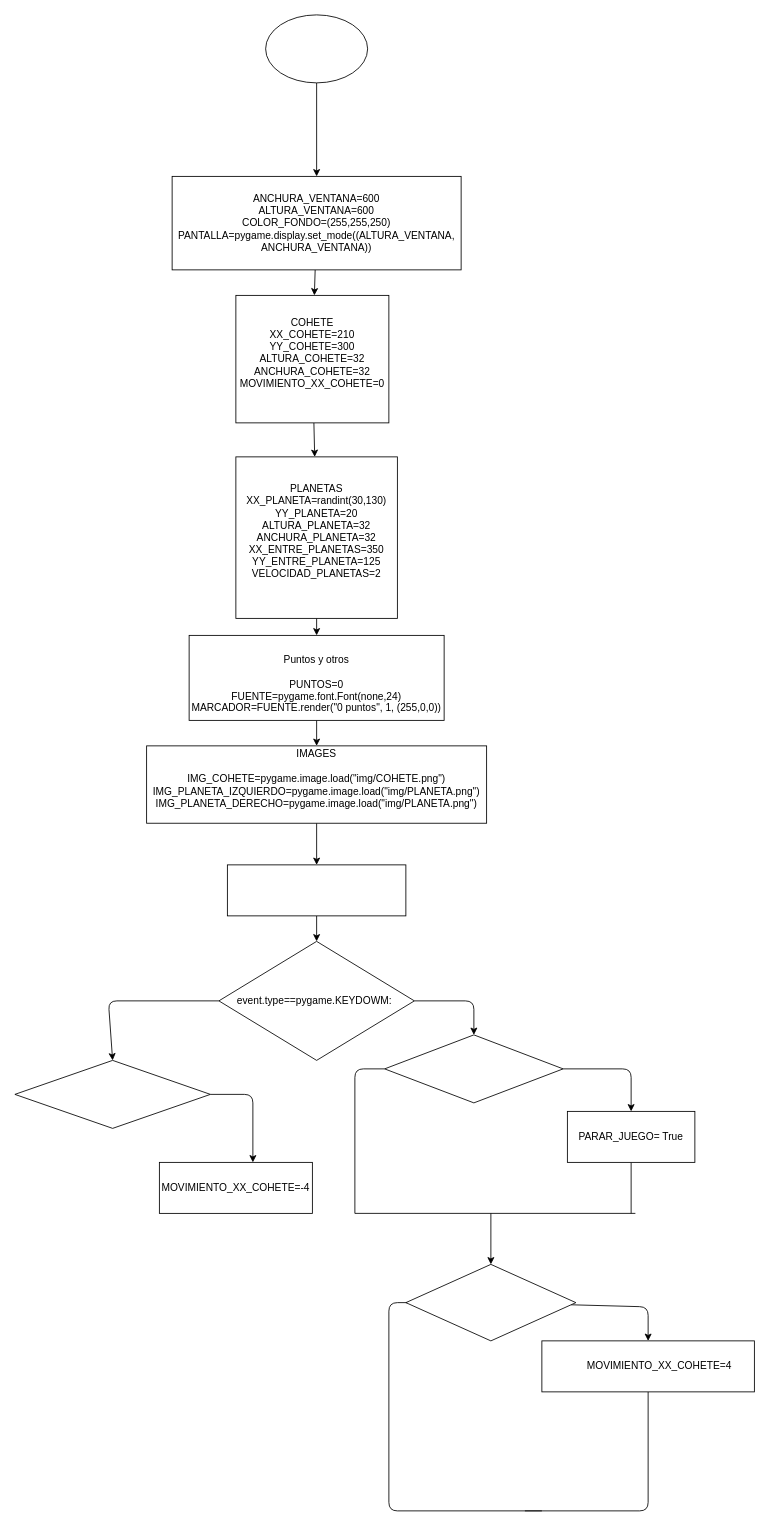
Some shapes in this 769 by 1527 pixel diagram are drawn without their labels. The centre of each missing label's shape, as x and y in pixels:
event.key==pygame.K_Escape:: the point at 473,1068
event.key==pygame.K_RIGHT:: the point at 490,1302
event.type==pygame.KEYUP:: the point at 112,1094
Inicio: the point at 316,48
pygame.display.set_caption("PRIMER JUEGO"): the point at 316,890
